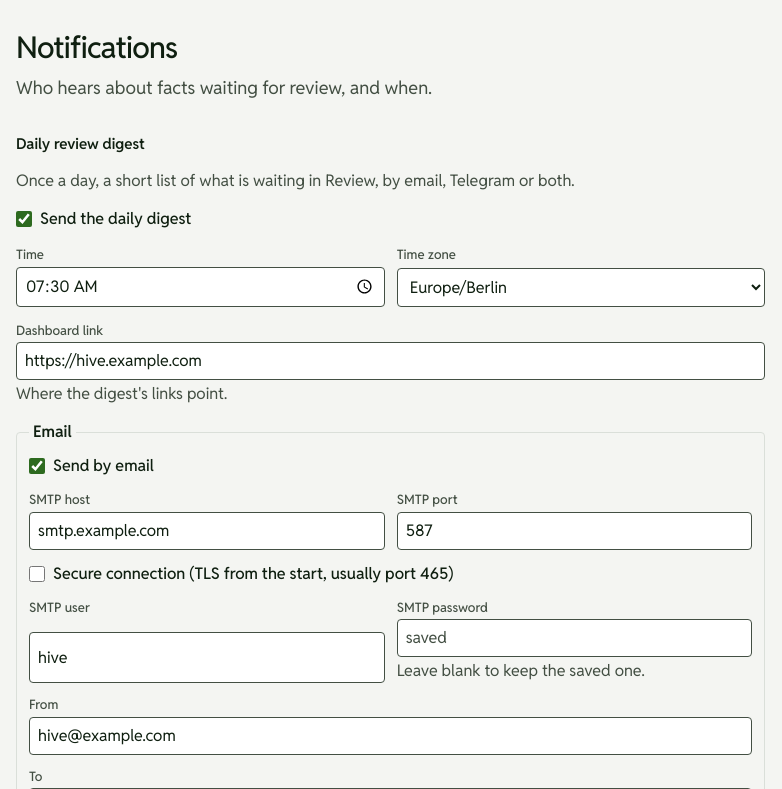
it: settings page › leaves a channel that is off out of the PUT
Click the switch labelled "Send by email" at (37, 466), box [29,458,45,474]
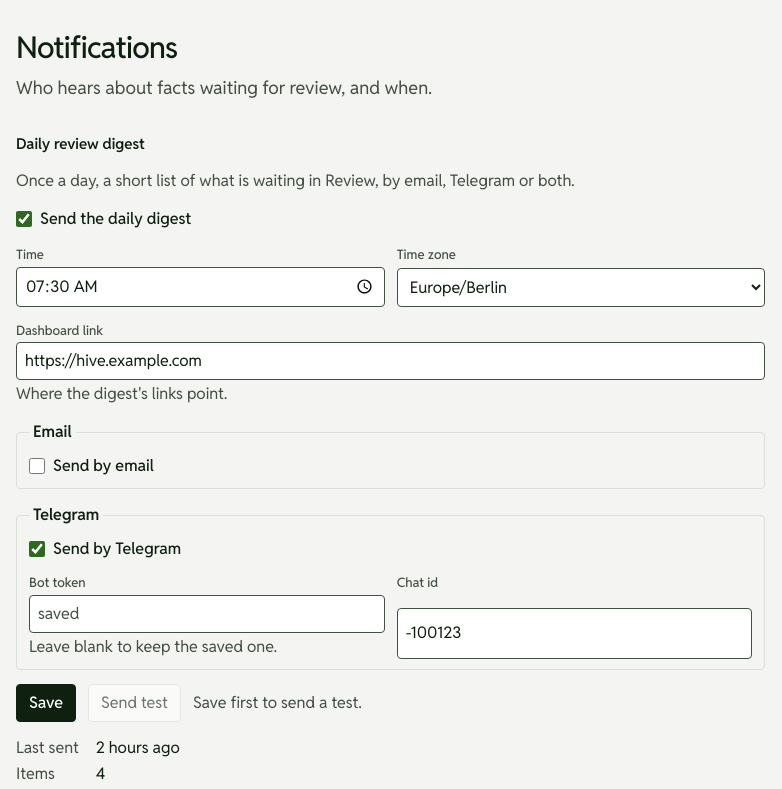
Expected: the label labelled "SMTP host" is gone
Click the button "Save" at (46, 702), box [16,684,76,722]
(page scrolled)
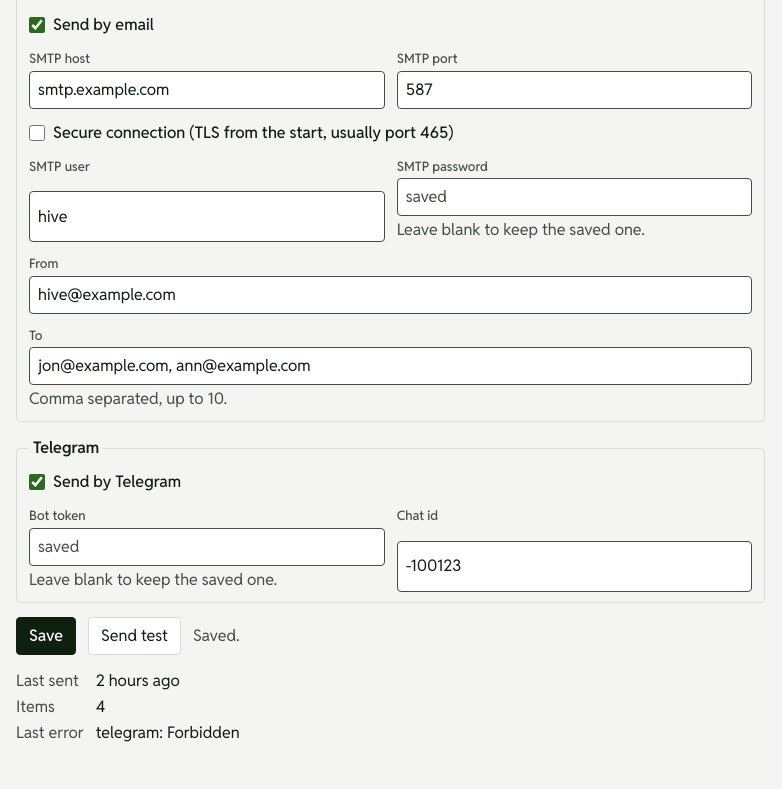
Expected: the message "Saved." is shown, [193,624,239,648]
